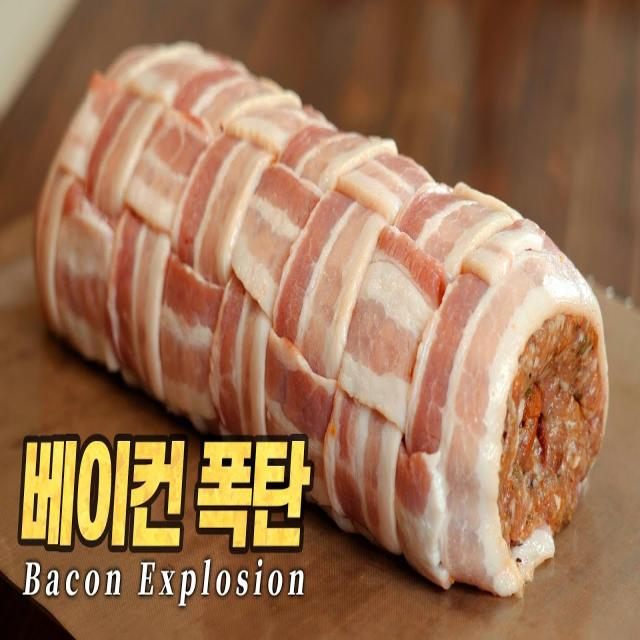bacon: (48, 33, 496, 472)
